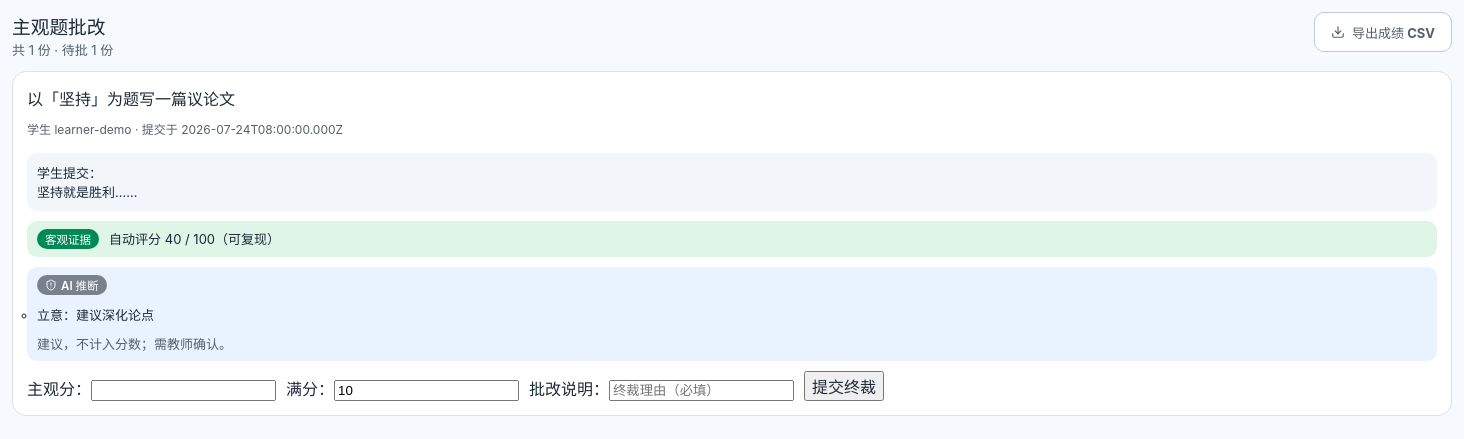
Test: Gradebook (T08 主观题终裁) › after grade, flips row to 教师终裁 without requiring reload
The width and height of the screenshot is (1464, 439).
Check: the button "提交终裁" is shown, box [804,371,884,401]
Type "8" into the number field labelled "主观分" at [184, 390], box [91,380,276,401]
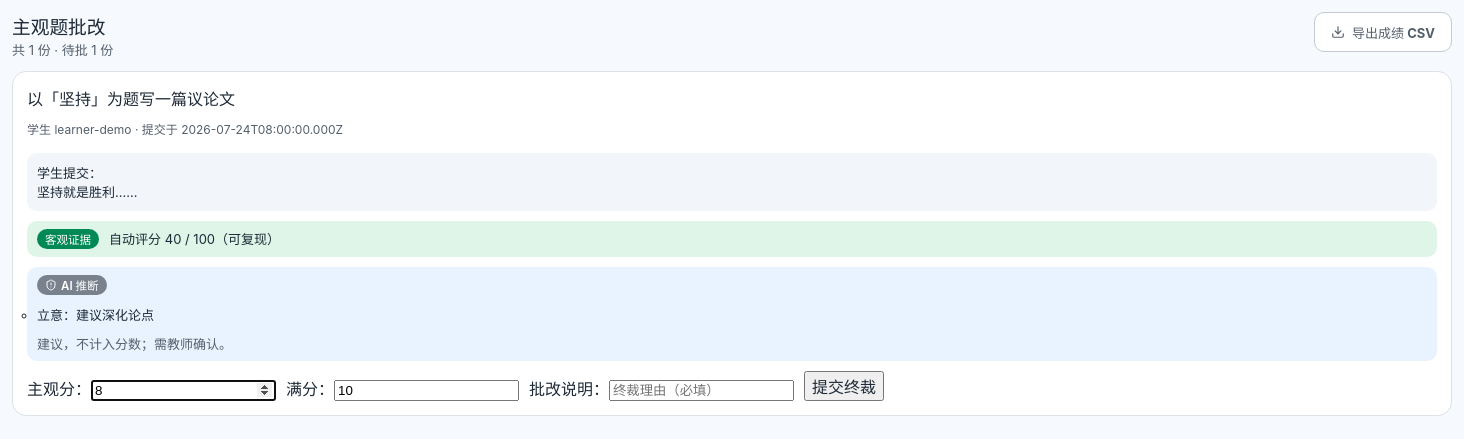
Replace the text in the number field named "主观满分" with "20" at [426, 390], box [334,380,519,401]
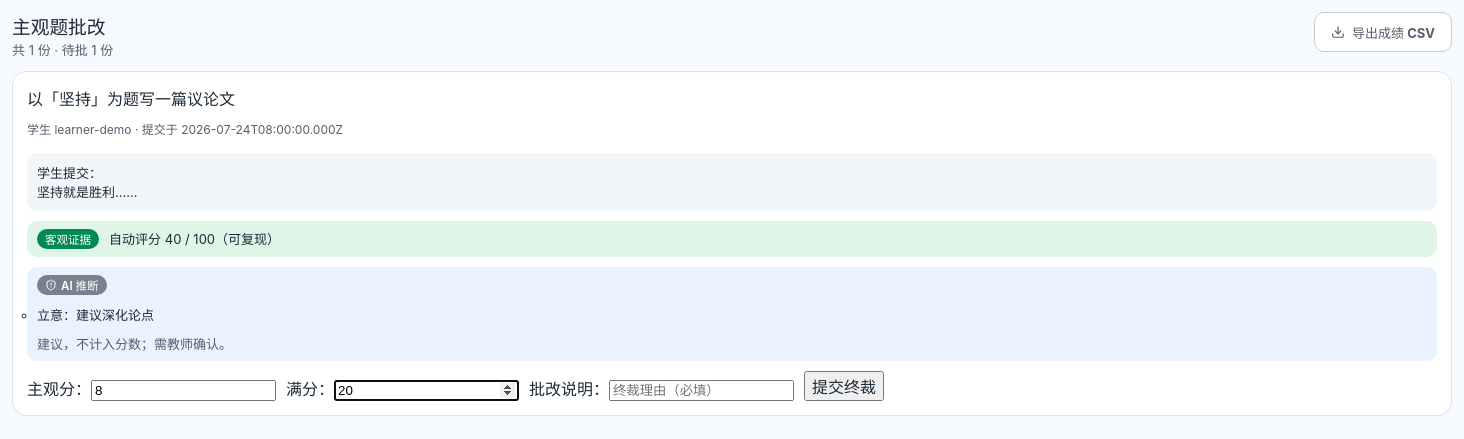
Type "立意深刻，论证可加强" into the field labelled "批改说明" at [702, 390], box [609,380,794,401]
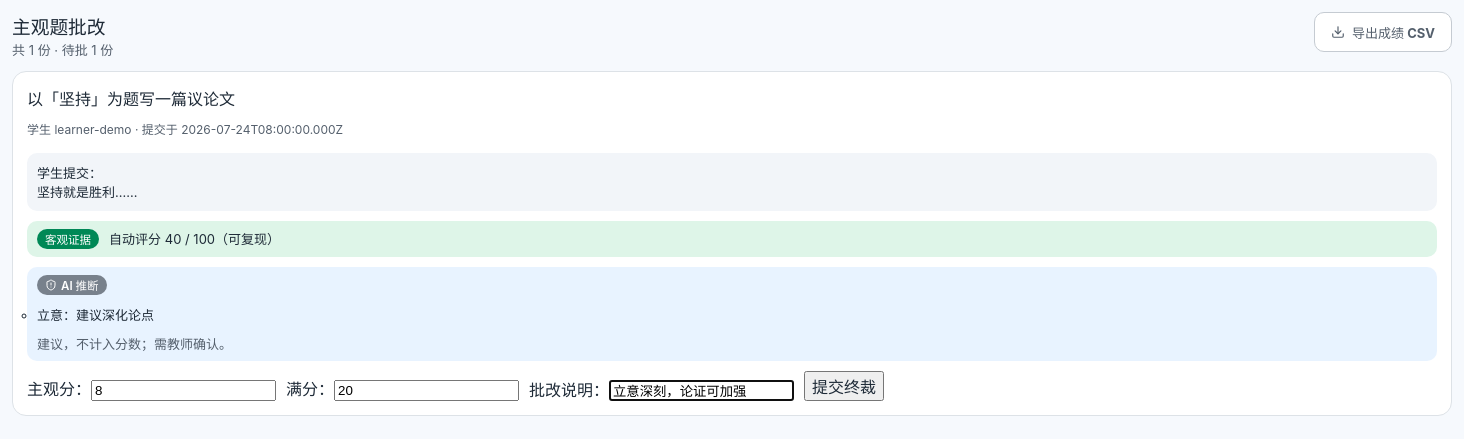
Click the button "提交终裁" at [844, 386], box [804,371,884,401]
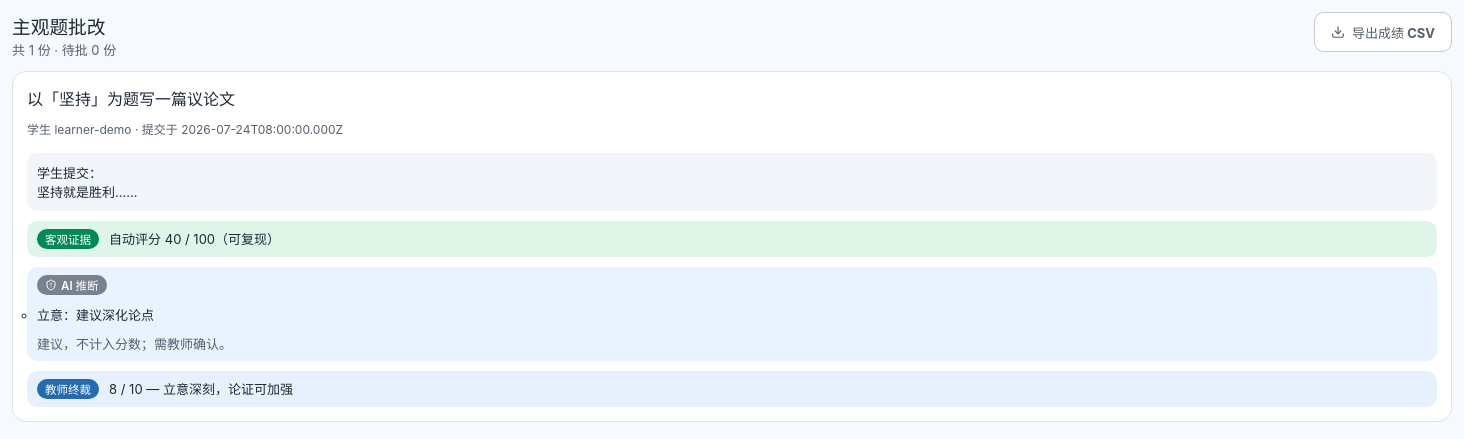
Check: the text "教师终裁" is shown, box [37,379,99,399]
Check: the text "8 / 10 — 立意深刻，论证可加强" is shown, box [109,379,293,398]
Check: the button "提交终裁" is gone
